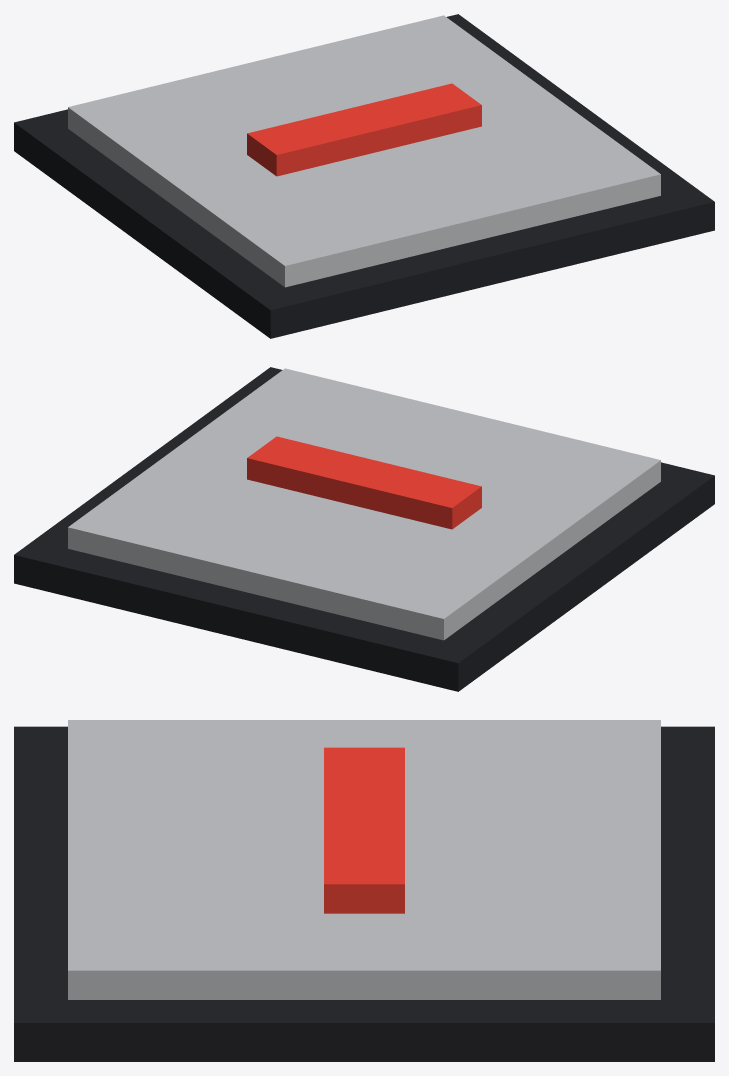
The model's file is station_hatch.glb.
3 renders of one model, top to bottom at view 1: azimuth 30°, elevation 25°; view 2: azimuth 150°, elevation 25°; view 3: azimuth 270°, elevation 25°, orthographic. The views are drawn at different scales.
Bounding box in the file's own units: 0.26 × 0.04 × 0.26.
